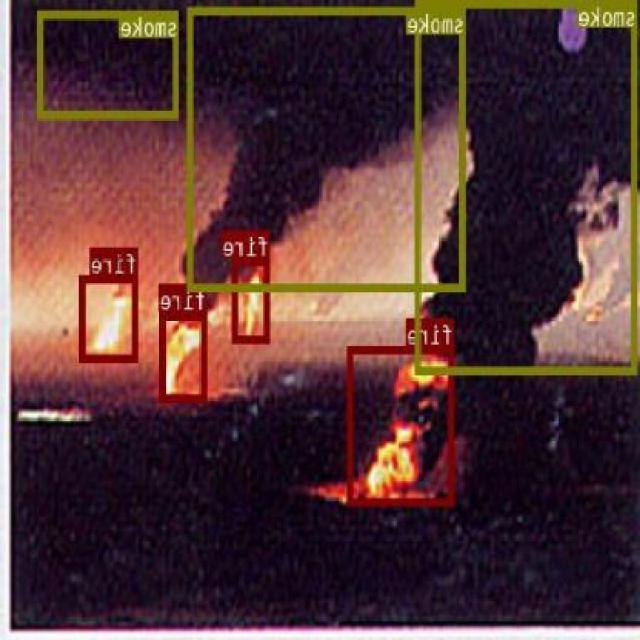Fire: (356, 358, 448, 488), (84, 281, 132, 356), (163, 320, 200, 395), (234, 258, 267, 336)
Smoke: (422, 9, 632, 364), (191, 16, 456, 284), (46, 20, 172, 108)
